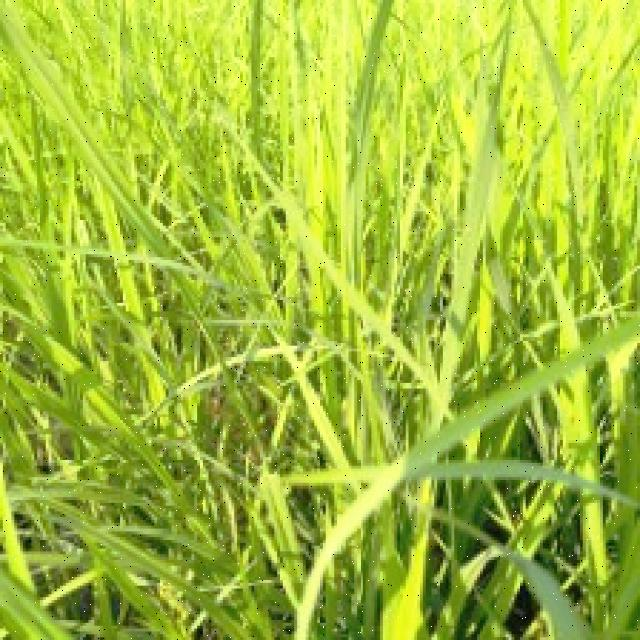health: (0, 0, 639, 636)
